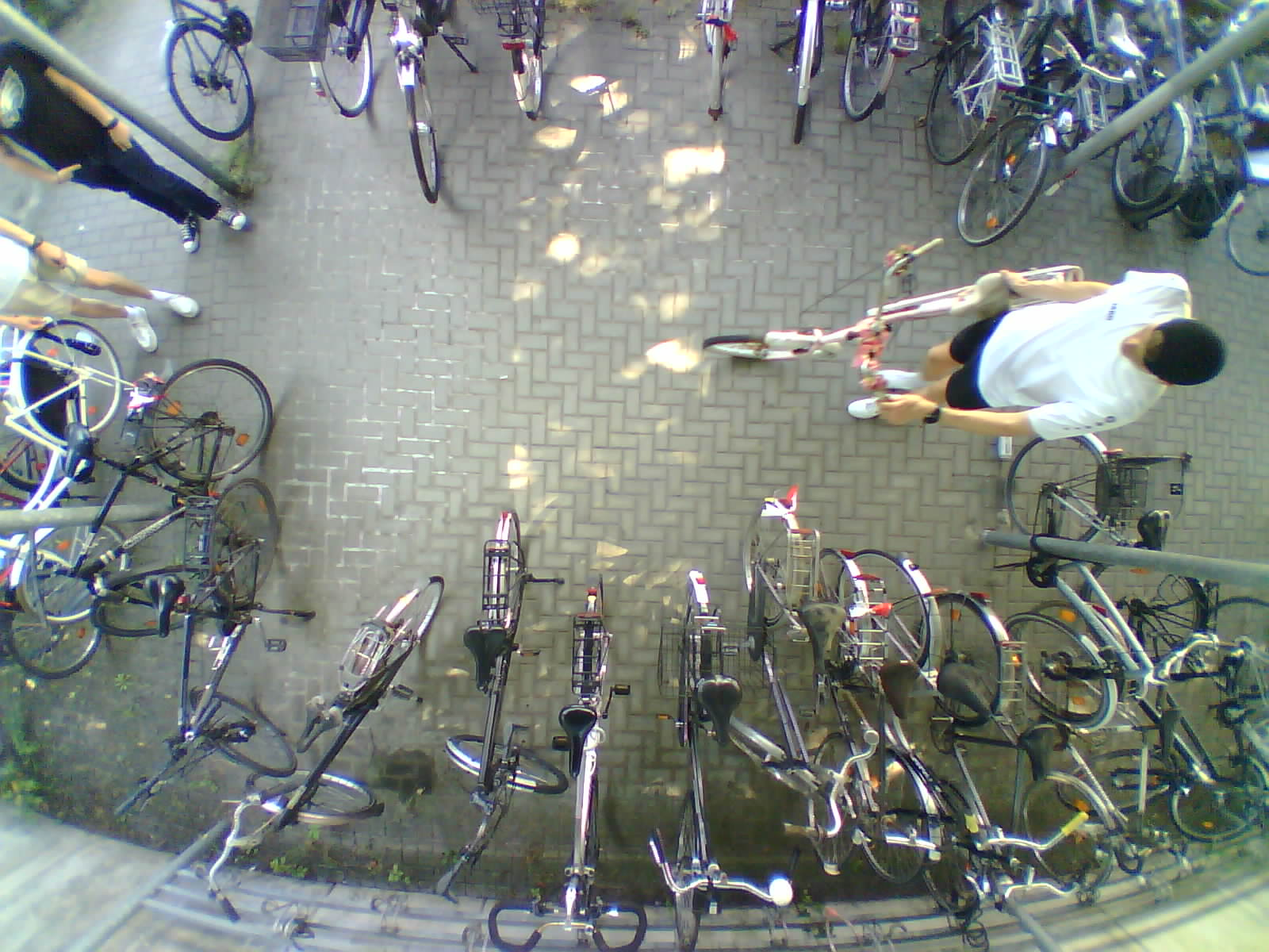bicylce: (704, 240, 1085, 395), (237, 571, 450, 824), (84, 353, 270, 634), (1000, 440, 1130, 734), (168, 475, 289, 780), (7, 313, 123, 621), (957, 0, 1091, 242), (651, 568, 735, 946), (852, 552, 954, 855), (452, 512, 554, 800), (920, 597, 1010, 902), (741, 489, 823, 809), (545, 597, 623, 933), (812, 555, 868, 860)
saddle: (694, 675, 744, 750), (293, 695, 349, 756), (955, 268, 1015, 323), (799, 599, 842, 669), (143, 572, 187, 636), (1100, 10, 1146, 66), (564, 708, 598, 781), (938, 665, 989, 712), (57, 423, 98, 479), (469, 630, 506, 689), (1137, 509, 1178, 561), (885, 661, 921, 717), (1161, 706, 1183, 758)
